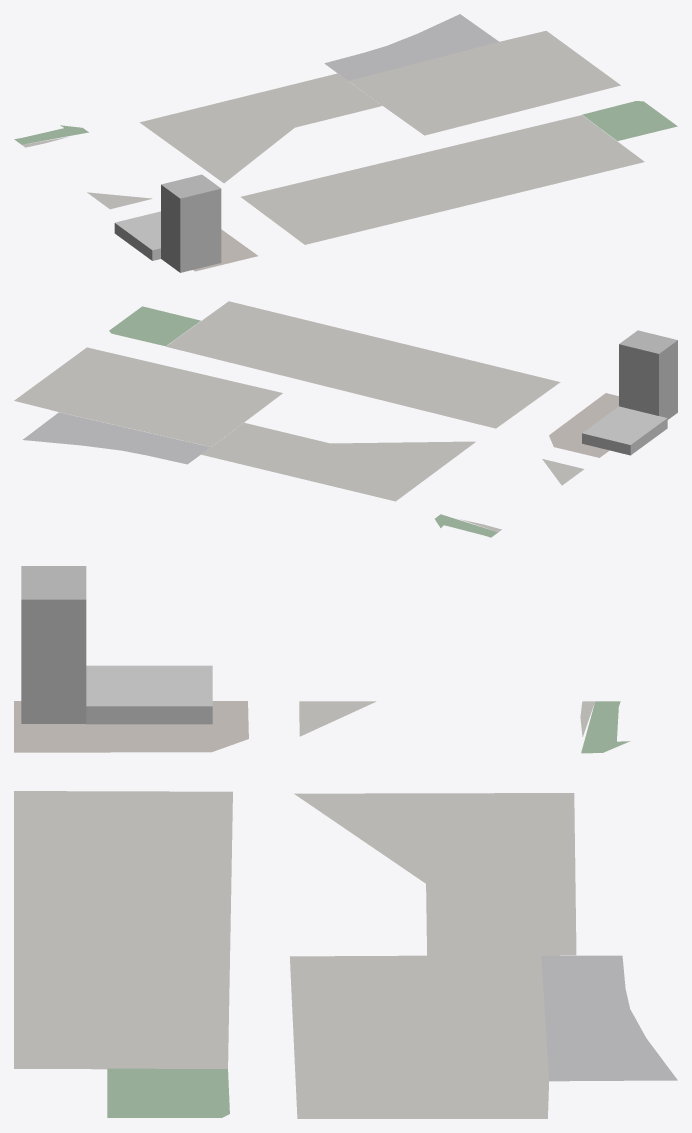
Rendered from 99_102_mid.glb.
The picture shows the model from 3 angles, top to bottom: view 1: azimuth 30°, elevation 25°; view 2: azimuth 150°, elevation 25°; view 3: azimuth 270°, elevation 25°; orthographic projection. The views are drawn at different scales.
Bounding box in the file's own units: 521 × 70.13 × 336.
